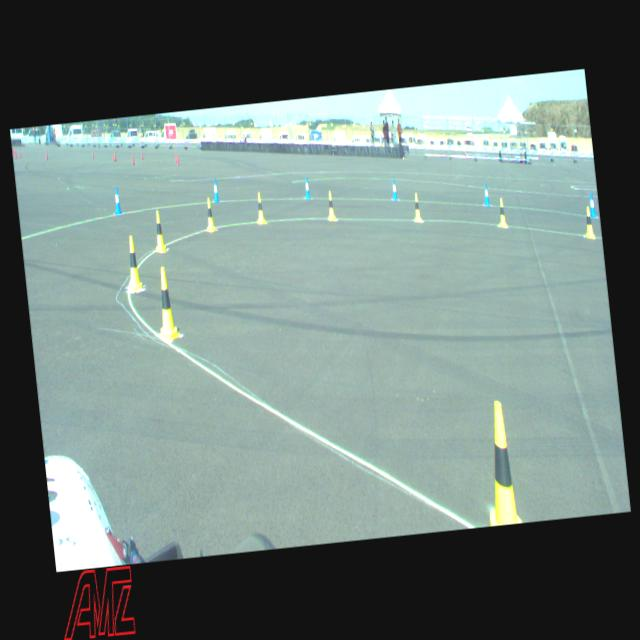blue_cone: (112, 185, 122, 214), (212, 177, 220, 202), (588, 192, 596, 217), (482, 182, 489, 206), (390, 178, 397, 200), (304, 176, 310, 199)
yellow_cone: (478, 400, 522, 524), (153, 265, 177, 338), (123, 235, 142, 290), (152, 210, 166, 250), (204, 197, 216, 230), (583, 206, 594, 238), (496, 197, 507, 228), (255, 191, 265, 223), (326, 191, 335, 221), (412, 192, 421, 222)
